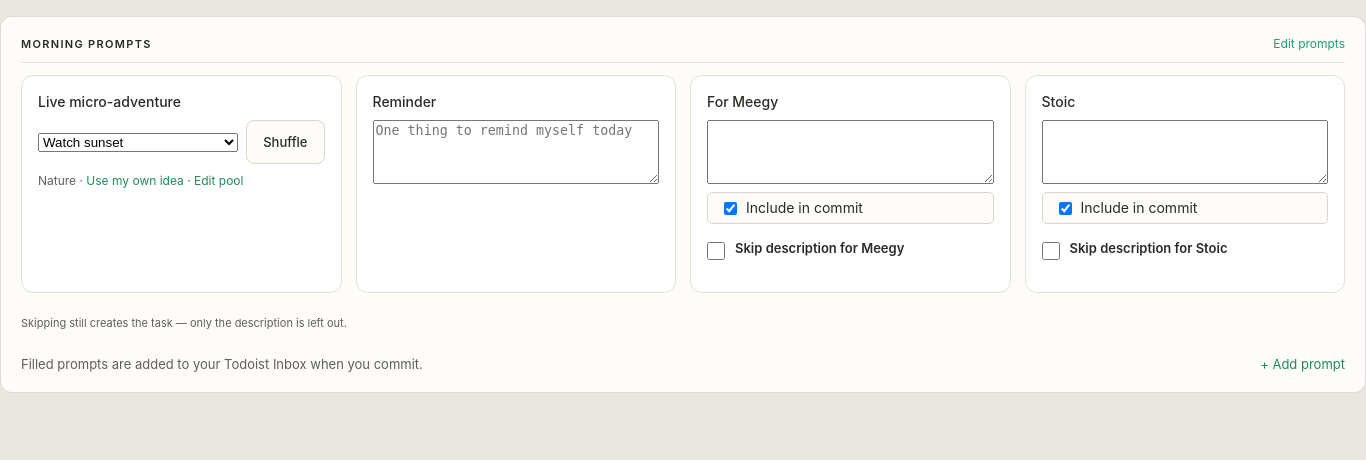
Test: PromptsCard Reminder copy › names Reminder in the built-in note when no custom prompts exist
The width and height of the screenshot is (1366, 460).
Click the button "Edit prompts". click: point(1309, 44)
box: [1273,35,1345,52]
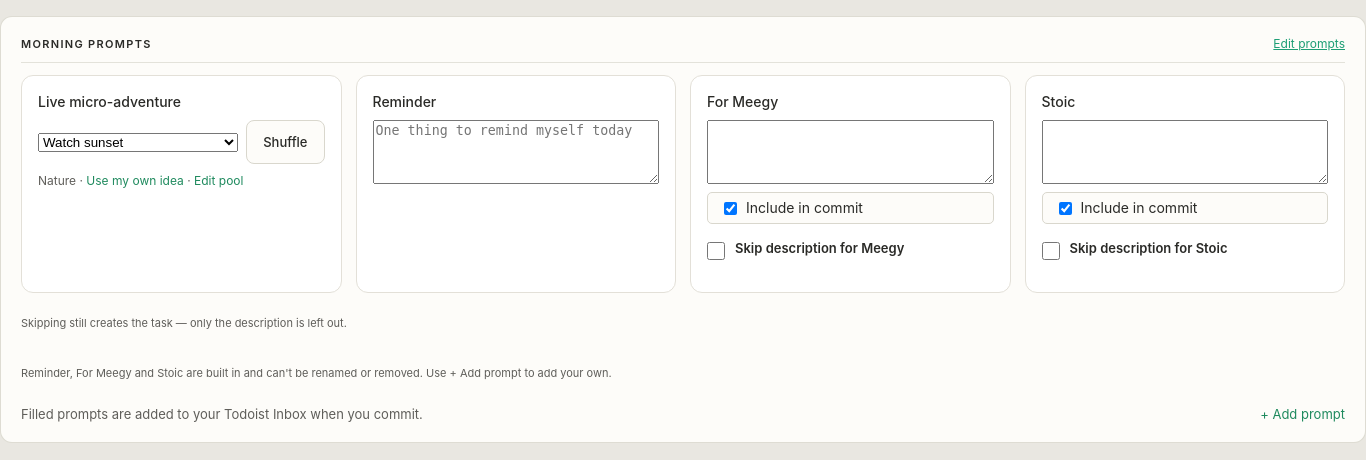
Check: the text "Reminder, For Meegy and Stoic are built in and can't be renamed or removed" is shown, box [21,366,612,380]
